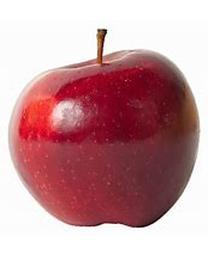apple: (7, 48, 201, 228)
